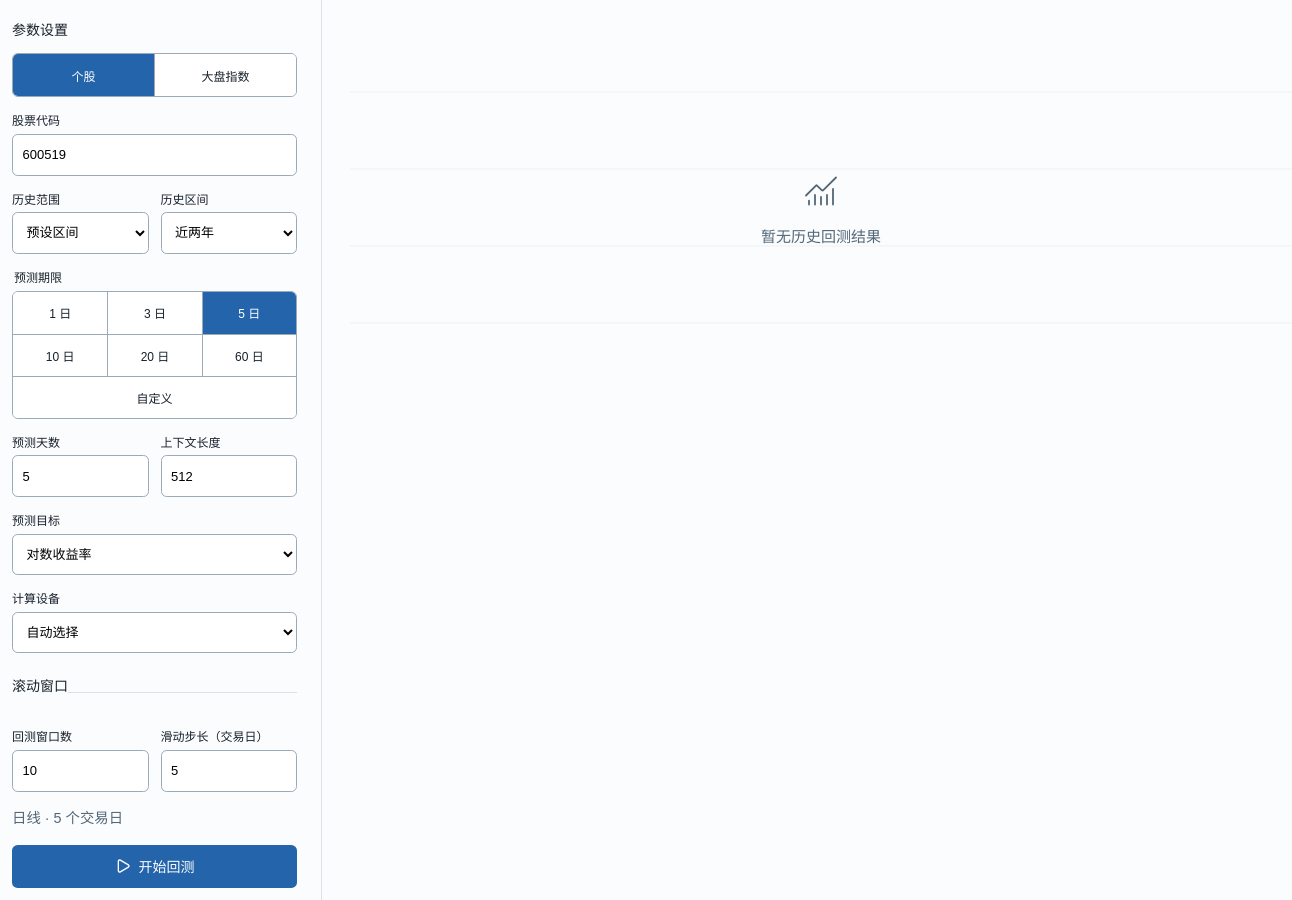
Test: extracted legacy capabilities on independent pages › renders independent backtest comparisons
(page scrolled)
Click the button "开始回测": (154, 866) [12,845,297,888]
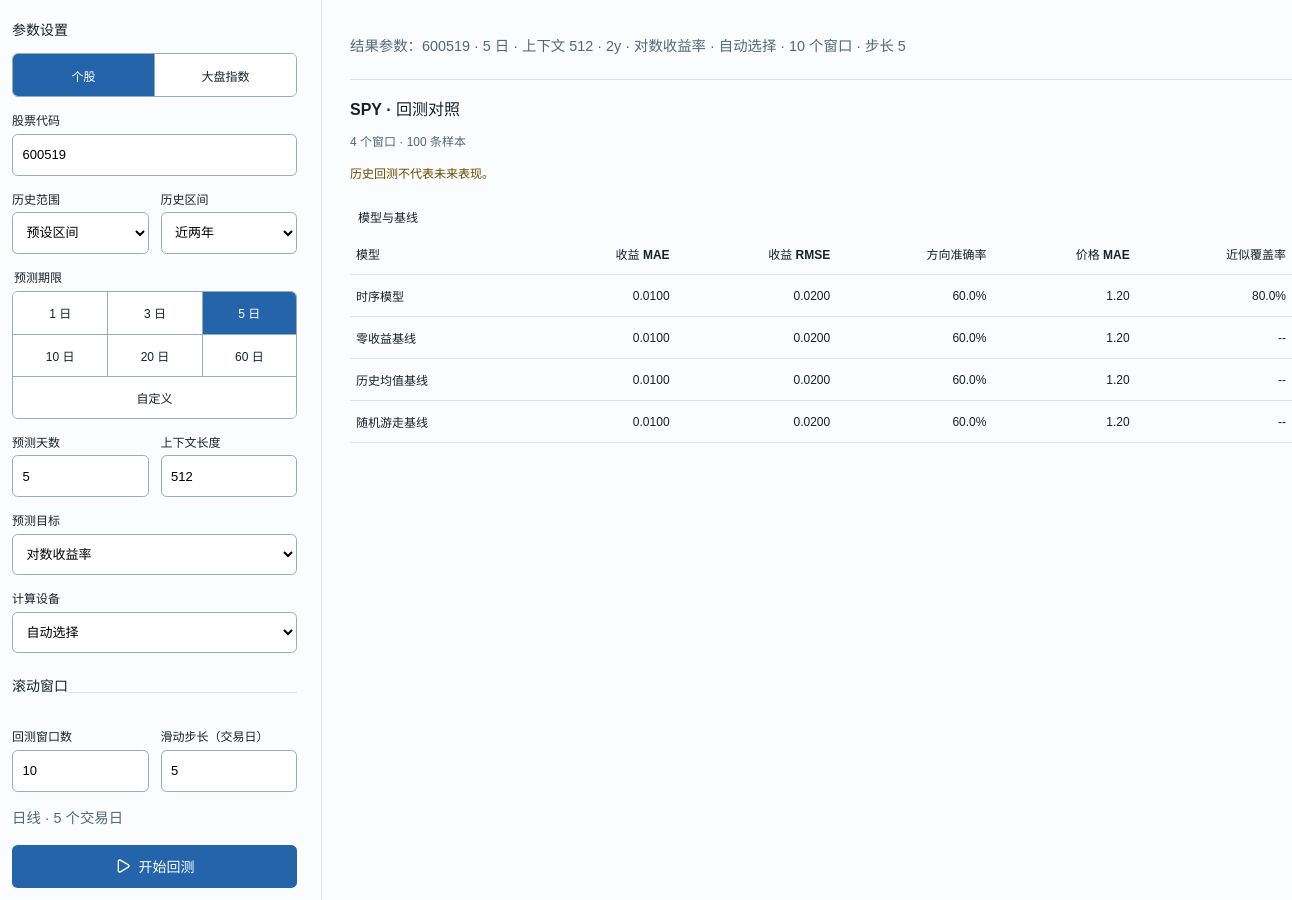
Expected: the column heading "零收益基线" is shown, [350,317,532,359]
Expected: the column heading "时序模型" is shown, [350,275,532,317]
Expected: the column heading "历史均值基线" is shown, [350,359,532,401]
